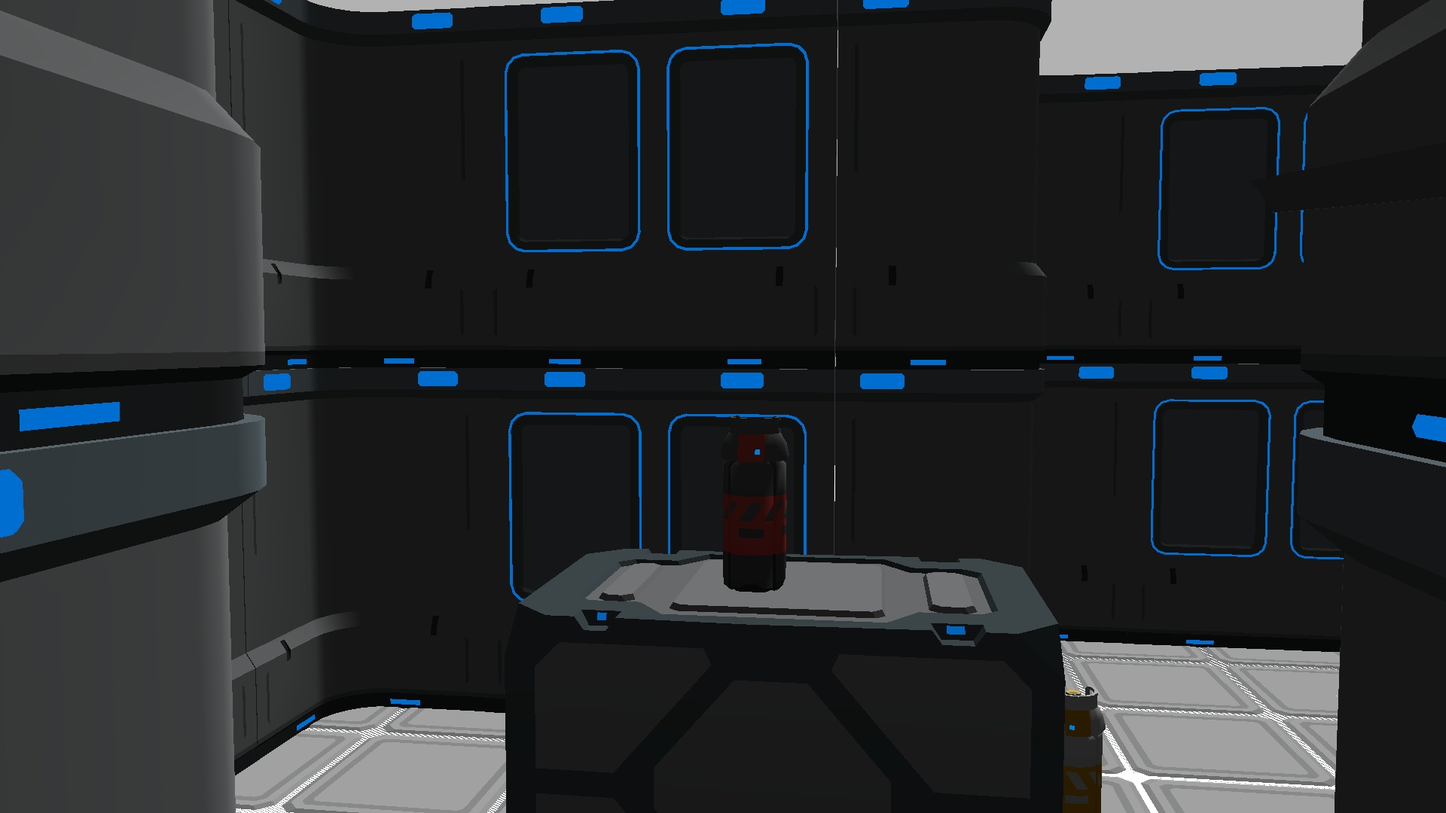red barrel: (723, 416, 788, 593)
yellow barrel: (1063, 686, 1105, 813)
